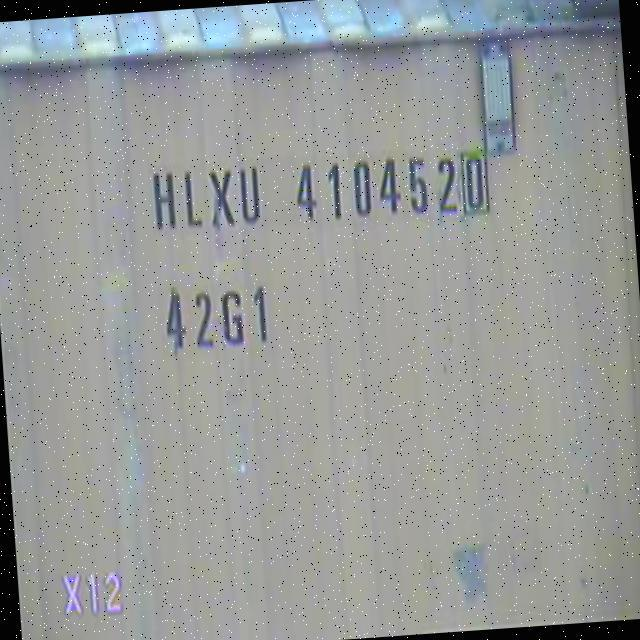le-tle-t-tletters: (148, 140, 497, 243)
